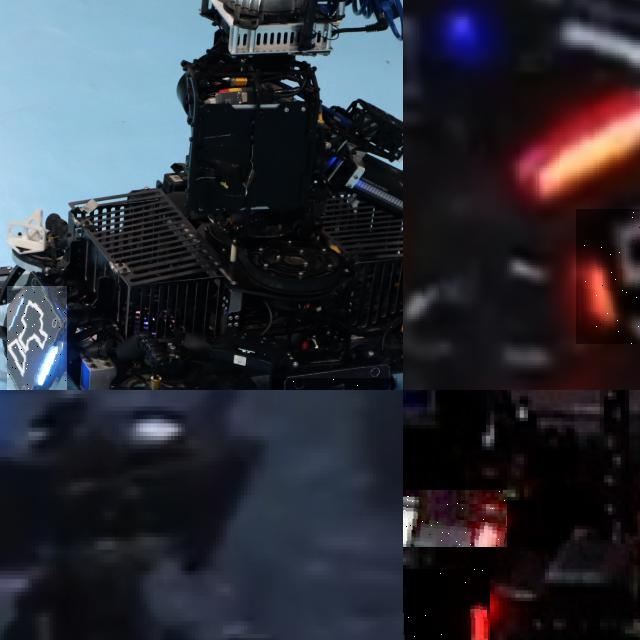Bs: (7, 285, 67, 390)
R1: (403, 568, 490, 640), (403, 489, 507, 547)
R5: (575, 208, 640, 344)
